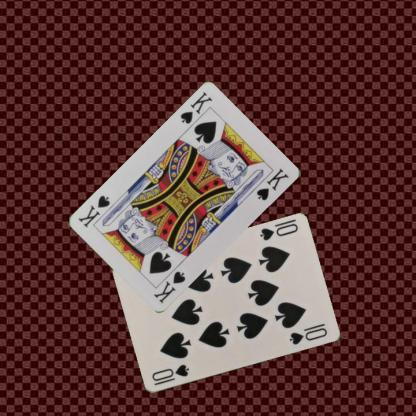10s: (149, 362, 191, 388), (257, 221, 299, 242)
Ks: (150, 268, 187, 306), (177, 90, 214, 126)
